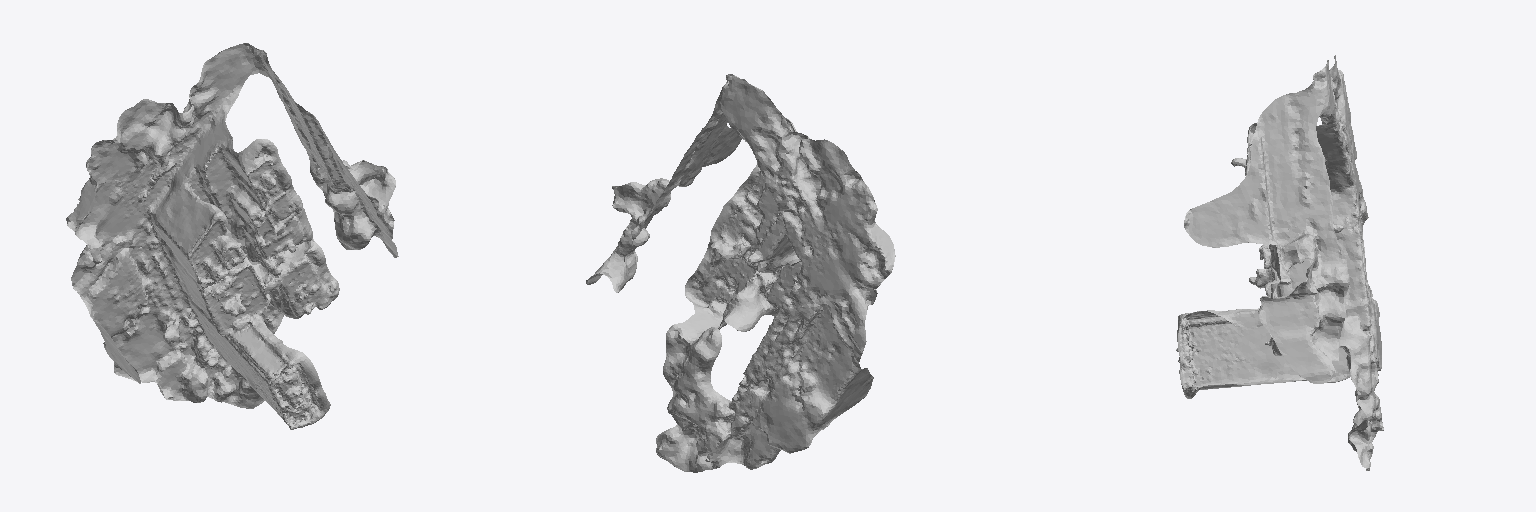
File: school1_simplified_3d_mesh.obj
The picture shows the model from 3 angles: view 1: azimuth 30°, elevation 25°; view 2: azimuth 150°, elevation 25°; view 3: azimuth 270°, elevation 25°; orthographic projection.
Size of the model in its own units: 111 by 132 by 64.06.